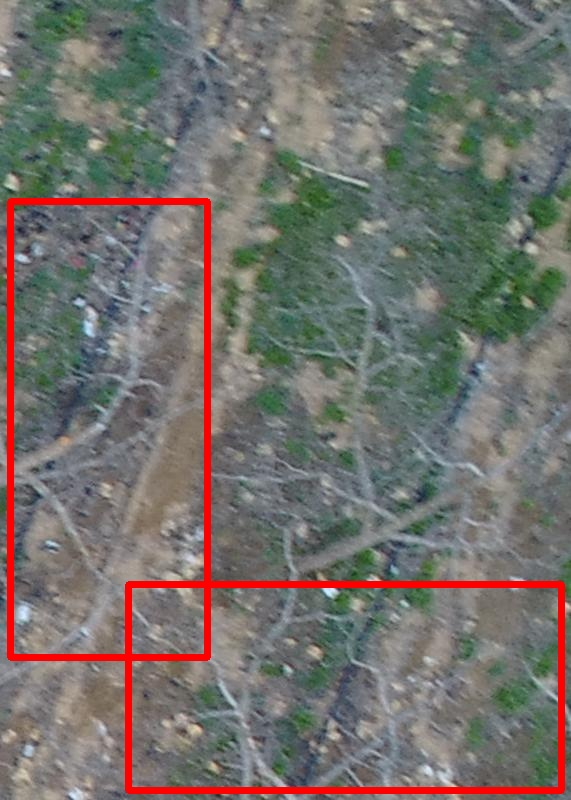apple: (10, 201, 207, 657), (128, 584, 561, 790)
